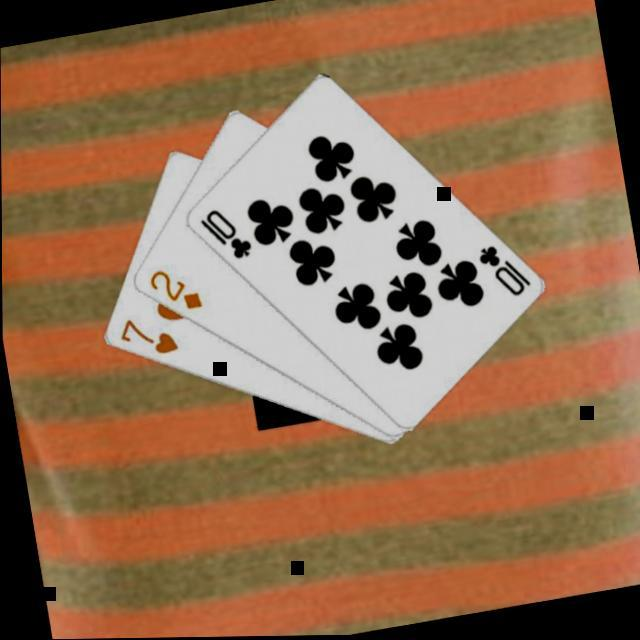10C: (472, 238, 536, 308), (194, 201, 257, 270)
2D: (144, 262, 206, 321)
7H: (114, 309, 182, 366)
